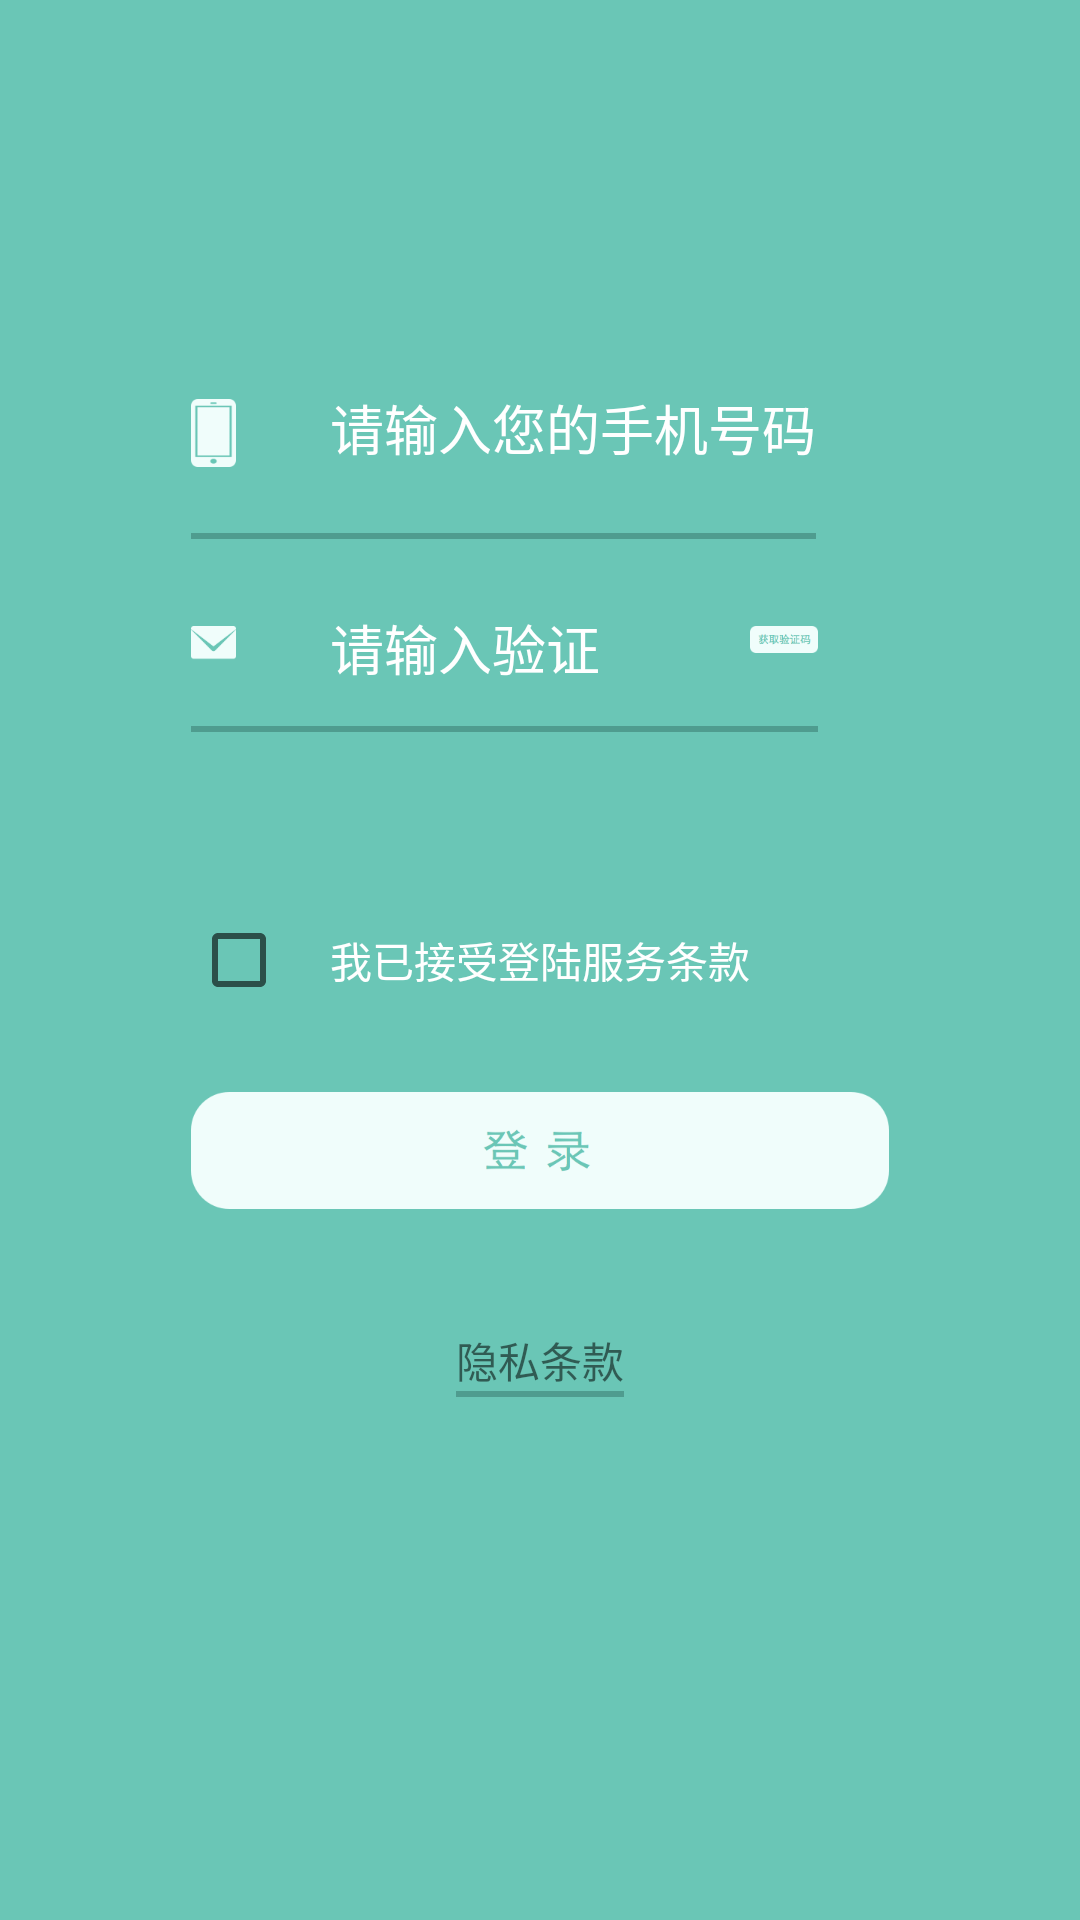

Point at icon controls on the screen. Image size 1080w x 1920h, points as point (x, y).
mailicon: point (213, 642)
phone: point (213, 433)
